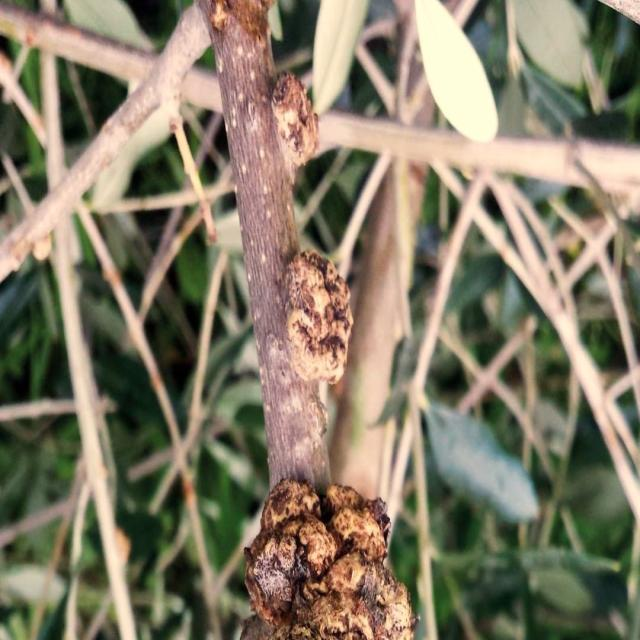Tuberculosis: (240, 479, 419, 639), (285, 251, 361, 385), (271, 72, 326, 184)
